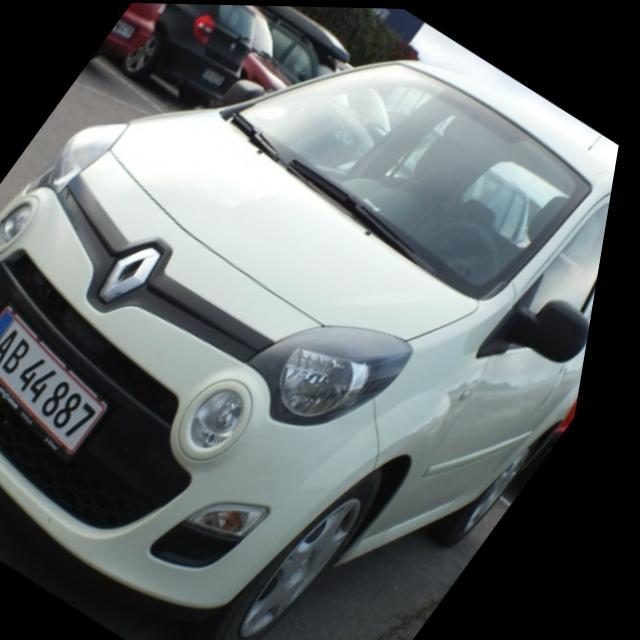license_plate: (0, 308, 150, 458)
